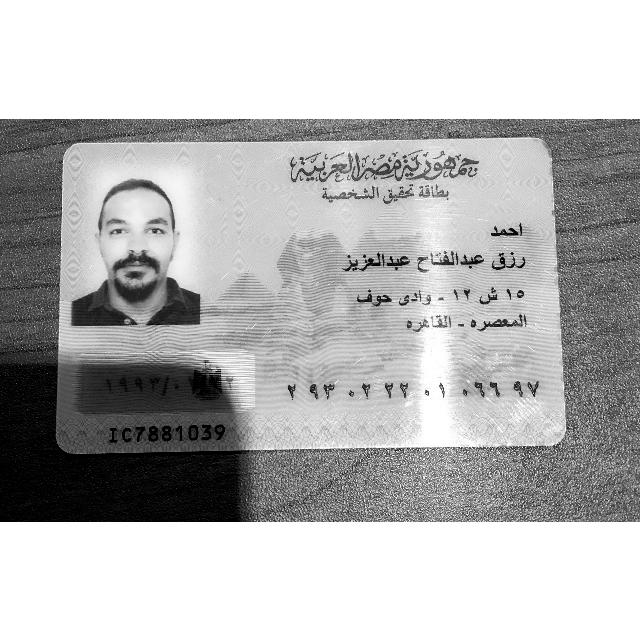id_card: (56, 137, 566, 453)
